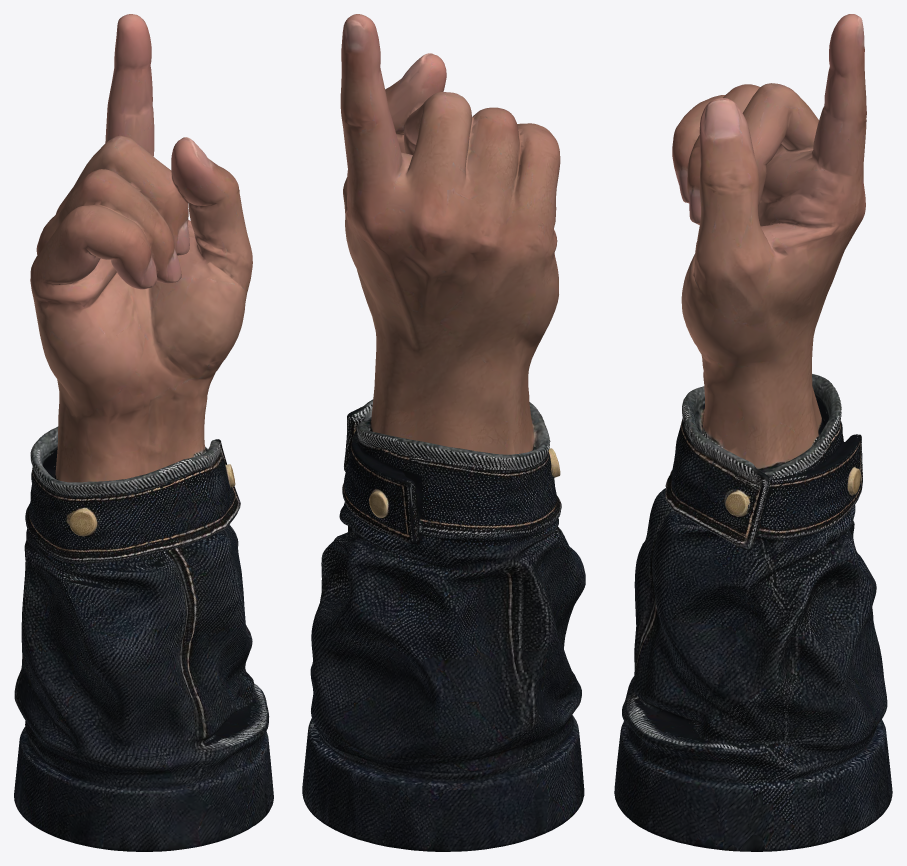
The model's file is pointing-hand.glb.
3 renders of one model, left to right at view 1: azimuth 30°, elevation 25°; view 2: azimuth 150°, elevation 25°; view 3: azimuth 270°, elevation 25°, orthographic. The views are drawn at different scales.
Size of the model in its own units: 0.604 by 1.9 by 0.6028.
Materials: 1 (1 with a texture image).
